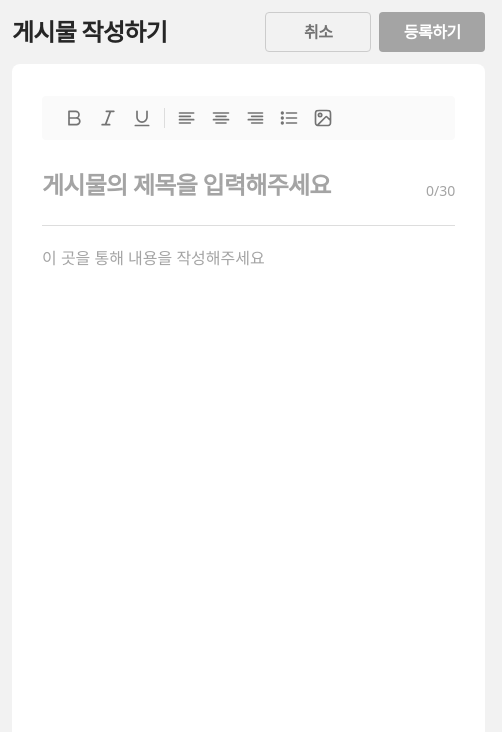
Test: 제목 입력 시 0/30 카운터가 갱신된다
This screenshot has width=502, height=732.
Check: the text "0/30" is shown, box [426, 181, 455, 201]
Type "안녕하세요" into the field labelled "제목" at coordinates (226, 185), box [42, 169, 410, 201]
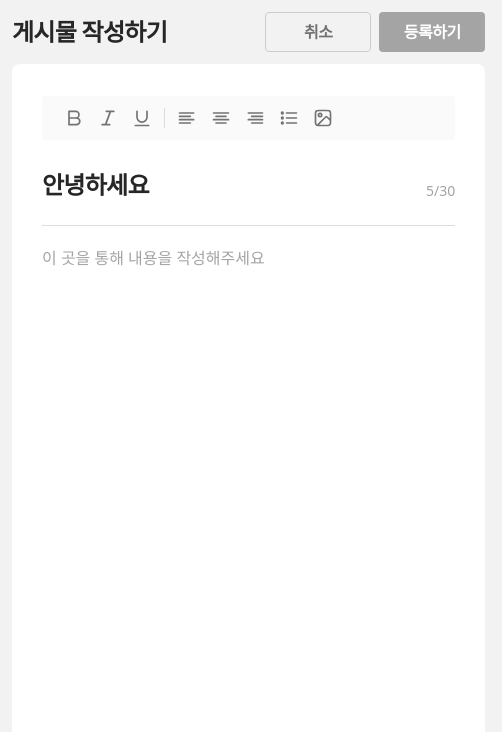
Check: the text "5/30" is shown, box [426, 181, 455, 201]
